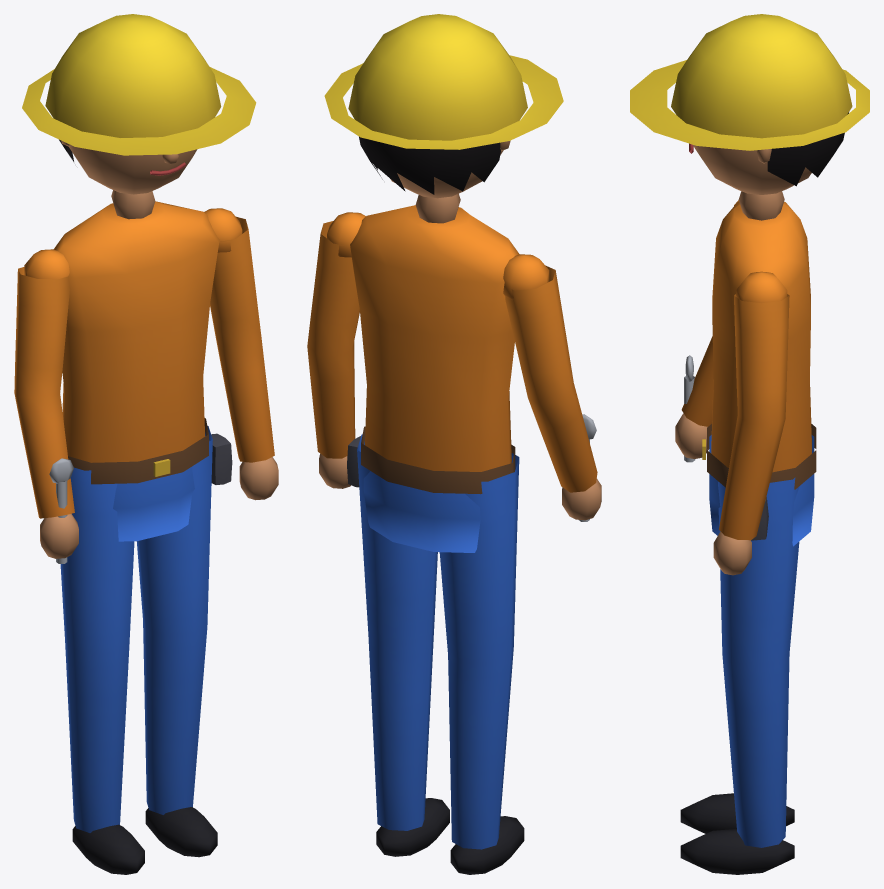
File: Staff_Maintenance.obj
The picture shows the model from 3 angles, left to right: view 1: azimuth 30°, elevation 25°; view 2: azimuth 150°, elevation 25°; view 3: azimuth 270°, elevation 25°; orthographic projection. The views are drawn at different scales.
Visible parts, largest first — view 1: Torso, Head, LegR, LegL, ArmR, ArmL, Prop; view 2: Torso, Head, LegR, LegL, ArmR, ArmL; view 3: Head, LegL, Torso, ArmL, ArmR, LegR.
Part boxes in pixels (x1,y1,x2,y2): Torso: [53, 190, 232, 541]; Head: [22, 14, 256, 194]; LegR: [60, 467, 144, 874]; LegL: [136, 426, 217, 857]; ArmR: [14, 249, 78, 558]; ArmL: [204, 208, 278, 500]; Prop: [49, 458, 73, 563]; Torso: [347, 193, 519, 552]; Head: [324, 14, 563, 198]; LegR: [439, 453, 524, 874]; LegL: [357, 434, 449, 856]; ArmR: [503, 254, 601, 520]; ArmL: [307, 212, 365, 488]; Head: [630, 14, 869, 194]; LegL: [680, 477, 799, 874]; Torso: [702, 191, 816, 546]; ArmL: [713, 271, 789, 575]; ArmR: [675, 200, 739, 458]; LegR: [680, 793, 794, 833].
Bounding box in the file's own units: 0.6174 × 1.91 × 0.4996.
1 material, 1 textured.
